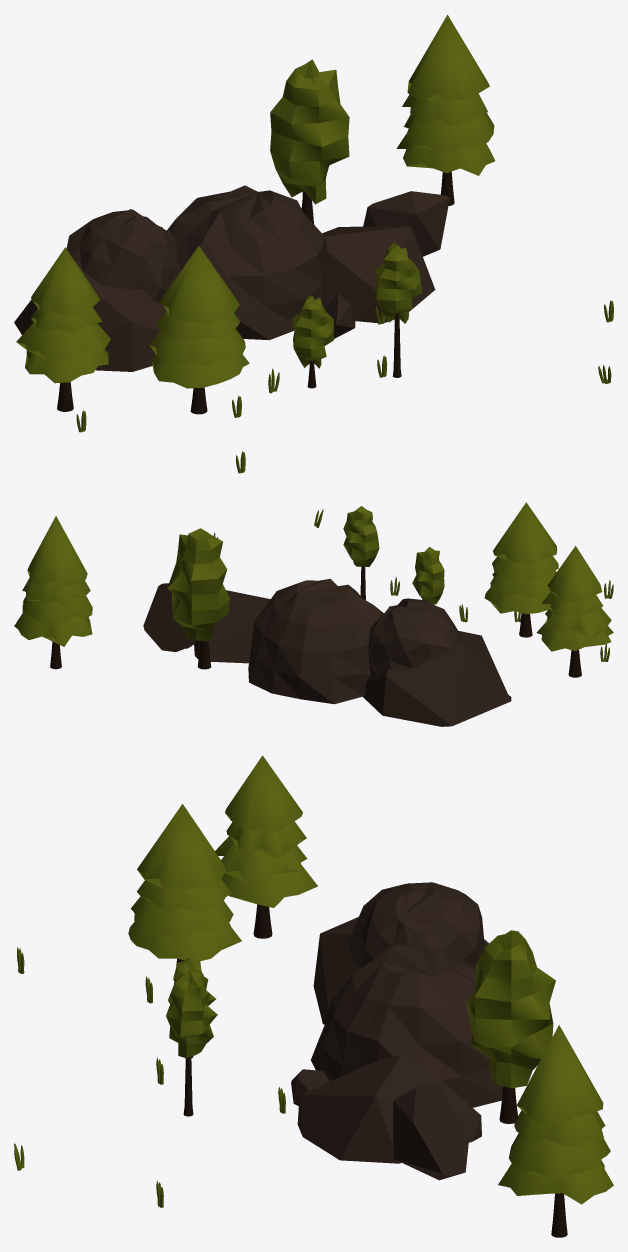
The model's file is Trees and rocks.fbx.
The picture shows the model from 3 angles, top to bottom: view 1: azimuth 30°, elevation 25°; view 2: azimuth 150°, elevation 25°; view 3: azimuth 270°, elevation 25°; orthographic projection. The views are drawn at different scales.
Visible parts, largest first — view 1: pSphere1, pCone14, pCone13, pCone21, pCone15, pSphere2, pSolid3, pSolid1, pSolid2, pCone23, pCone22, pSolid4; view 2: pSphere1, pSolid1, pCone14, pCone13, pCone21, pCone15, pSphere2, pSolid3, pSolid2, pCone23, pCone22; view 3: pSphere1, pCone14, pCone13, pCone21, pSolid3, pCone15, pSphere2, pSolid2, pCone23, pSolid1, pSolid4.
Part boxes in pixels (left/top/right/bottom): pSphere1: left=167, top=185, right=327, bottom=340; pCone14: left=396, top=15, right=495, bottom=205; pCone13: left=149, top=246, right=249, bottom=414; pCone21: left=270, top=59, right=349, bottom=224; pCone15: left=16, top=247, right=110, bottom=411; pSphere2: left=66, top=209, right=181, bottom=302; pSolid3: left=322, top=226, right=435, bottom=323; pSolid1: left=14, top=261, right=165, bottom=371; pSolid2: left=363, top=191, right=449, bottom=256; pCone23: left=375, top=242, right=422, bottom=377; pCone22: left=292, top=294, right=333, bottom=388; pSolid4: left=326, top=292, right=355, bottom=338; pSphere1: left=248, top=578, right=383, bottom=704; pSolid1: left=362, top=631, right=511, bottom=726; pCone14: left=14, top=516, right=92, bottom=669; pCone13: left=484, top=502, right=558, bottom=637; pCone21: left=167, top=528, right=229, bottom=669; pCone15: left=536, top=546, right=613, bottom=677; pSphere2: left=368, top=598, right=461, bottom=677; pSolid3: left=194, top=590, right=270, bottom=663; pSolid2: left=143, top=583, right=196, bottom=652; pCone23: left=343, top=506, right=379, bottom=599; pCone22: left=412, top=547, right=444, bottom=604; pSphere1: left=311, top=944, right=502, bottom=1107; pCone14: left=498, top=1025, right=613, bottom=1237; pCone13: left=128, top=804, right=241, bottom=983; pCone21: left=466, top=930, right=555, bottom=1123; pSolid3: left=297, top=1053, right=481, bottom=1163; pCone15: left=215, top=755, right=317, bottom=938; pSphere2: left=348, top=882, right=486, bottom=968; pSolid2: left=393, top=1083, right=468, bottom=1180; pCone23: left=166, top=971, right=217, bottom=1116; pSolid1: left=313, top=917, right=488, bottom=1024; pSolid4: left=291, top=1069, right=329, bottom=1105.
Size of the model in its own units: 85.18 by 26.6 by 66.39.
